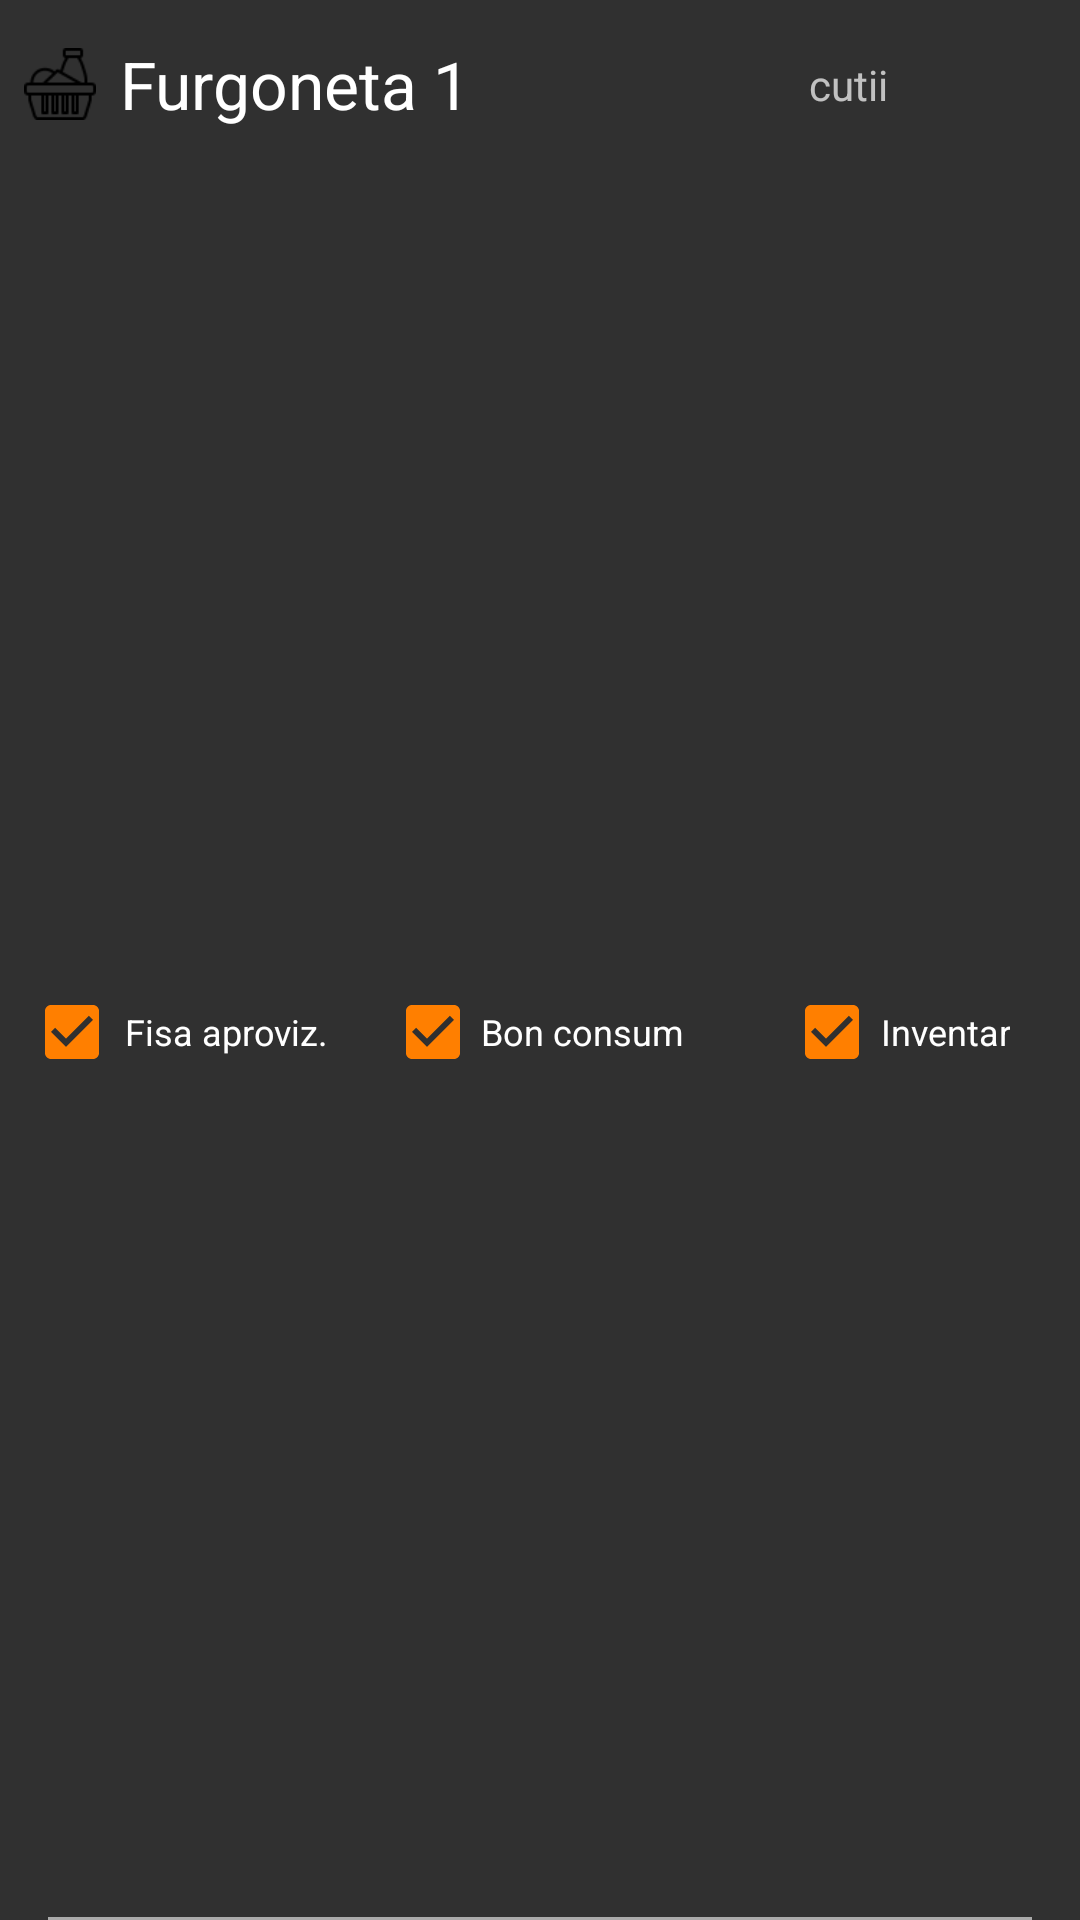

Locate icon controls on the screen. Image size 1080×1920, boxes as [x1,y1,x2,y2].
ingredients: [24,48,96,120]
